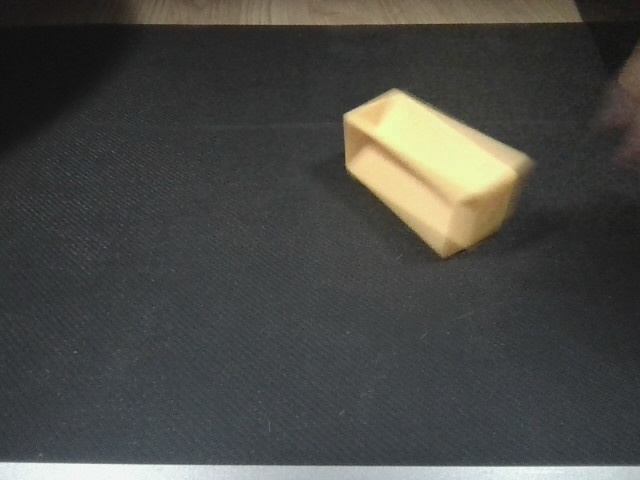YellowSample: (336, 81, 531, 269)
